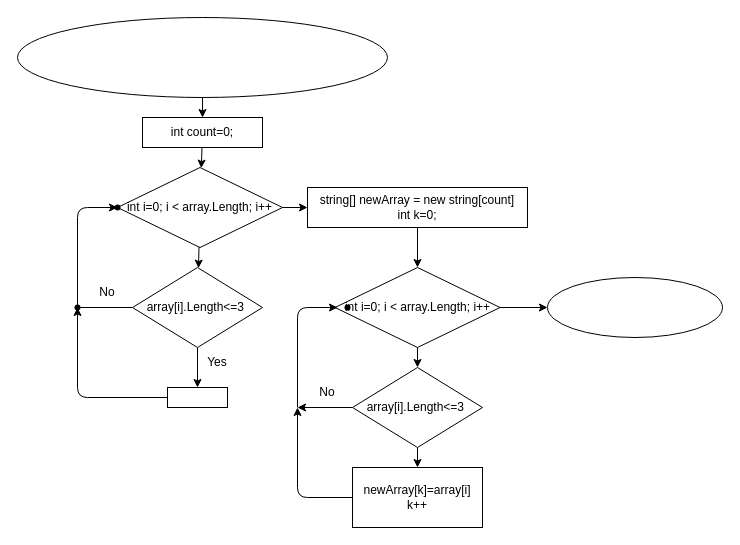
Image size: 740x545. Some labels were removed from this diagram. The shapes that lost their labels are listed below. From the top down, each one's centre as x and y in pixels, then its label:
At (x=202, y=57): "string [] FilterArrayString ( string [] array )".
At (x=634, y=307): "return newArray ;".
At (x=197, y=397): "count++".
